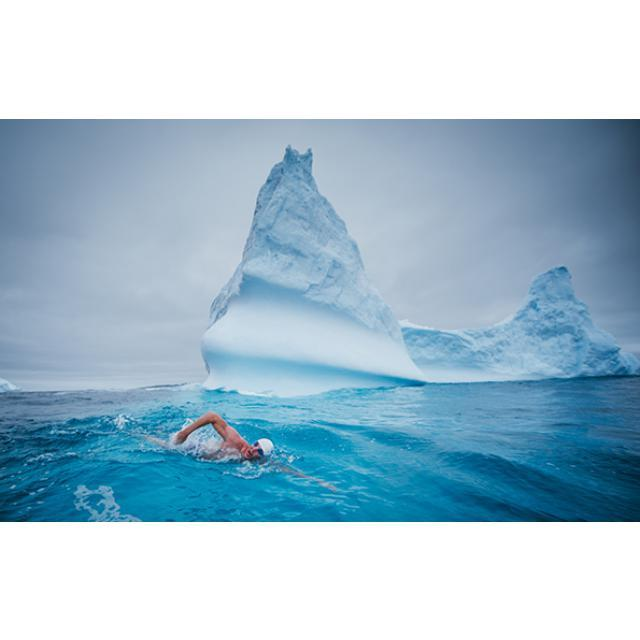human: (163, 408, 279, 472)
